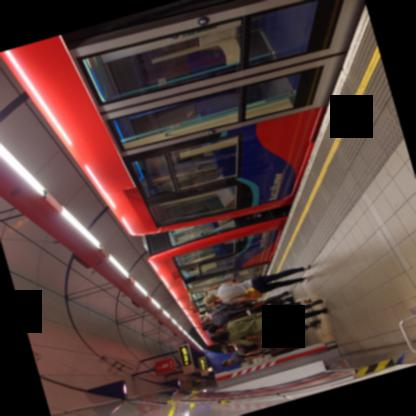handbag: (212, 301, 245, 317), (228, 332, 264, 343), (241, 287, 264, 300), (247, 301, 267, 313), (255, 333, 271, 344)
